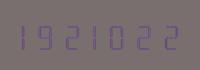nine: (40, 20, 62, 50)
one: (17, 20, 39, 50), (86, 20, 108, 50)
two: (63, 20, 85, 50), (132, 20, 154, 50), (155, 20, 177, 50)
zero: (109, 20, 131, 50)
